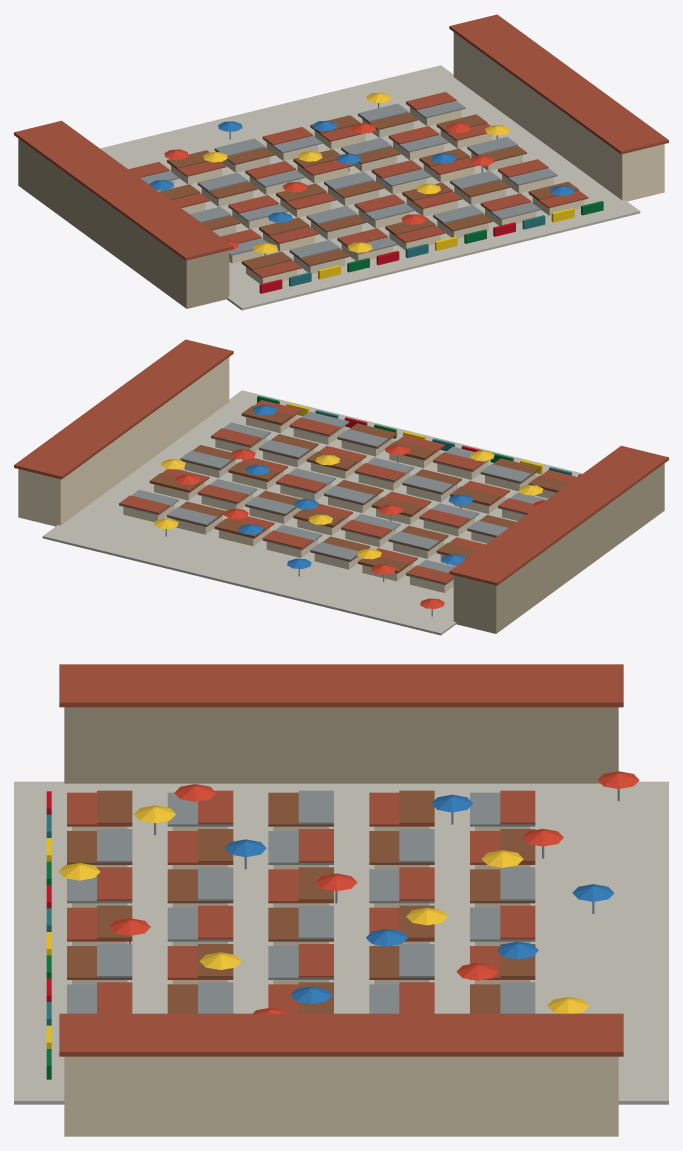
File: kantamanto.glb
The picture shows the model from 3 angles, top to bottom: view 1: azimuth 30°, elevation 25°; view 2: azimuth 150°, elevation 25°; view 3: azimuth 270°, elevation 25°; orthographic projection. The views are drawn at different scales.
Parts seen in each view (by area): view 1: kantamanto_roof_red, kantamanto_concrete, kantamanto_cream, kantamanto_zinc, kantamanto_stone_dark, kantamanto_rust, kantamanto_stone, kantamanto_umbrella_yellow, kantamanto_umbrella_blue, kantamanto_umbrella_red, kantamanto_red, kantamanto_teal (+2 smaller); view 2: kantamanto_roof_red, kantamanto_concrete, kantamanto_cream, kantamanto_zinc, kantamanto_stone_dark, kantamanto_rust, kantamanto_stone, kantamanto_umbrella_red, kantamanto_umbrella_yellow, kantamanto_umbrella_blue; view 3: kantamanto_concrete, kantamanto_roof_red, kantamanto_cream, kantamanto_stone_dark, kantamanto_zinc, kantamanto_rust, kantamanto_umbrella_red, kantamanto_umbrella_blue, kantamanto_umbrella_yellow, kantamanto_stone.
Boxes of the visible parts, box(x1,y1,x2,y2) form: kantamanto_roof_red: box(14, 14, 668, 278); kantamanto_concrete: box(100, 65, 640, 310); kantamanto_cream: box(157, 32, 664, 284); kantamanto_zinc: box(140, 101, 557, 258); kantamanto_stone_dark: box(18, 138, 229, 308); kantamanto_rust: box(159, 112, 578, 270); kantamanto_stone: box(201, 119, 522, 273); kantamanto_umbrella_yellow: box(203, 92, 509, 253); kantamanto_umbrella_blue: box(149, 120, 574, 222); kantamanto_umbrella_red: box(164, 122, 494, 250); kantamanto_red: box(259, 222, 515, 293); kantamanto_teal: box(289, 215, 545, 286); kantamanto_roof_red: box(14, 339, 668, 585); kantamanto_concrete: box(42, 390, 582, 635); kantamanto_cream: box(18, 357, 556, 592); kantamanto_zinc: box(119, 411, 546, 585); kantamanto_stone_dark: box(453, 463, 664, 633); kantamanto_rust: box(149, 405, 569, 572); kantamanto_stone: box(171, 437, 536, 569); kantamanto_umbrella_red: box(175, 445, 545, 608); kantamanto_umbrella_yellow: box(154, 450, 543, 559); kantamanto_umbrella_blue: box(238, 405, 472, 568); kantamanto_concrete: box(14, 781, 668, 1104); kantamanto_roof_red: box(59, 664, 623, 1056); kantamanto_cream: box(64, 826, 618, 1136); kantamanto_stone_dark: box(64, 707, 618, 783); kantamanto_zinc: box(67, 790, 535, 1013); kantamanto_rust: box(67, 790, 535, 1013); kantamanto_umbrella_red: box(109, 771, 639, 1013); kantamanto_umbrella_blue: box(224, 794, 613, 1004); kantamanto_umbrella_yellow: box(58, 805, 588, 1013); kantamanto_stone: box(72, 826, 530, 984).
Bounding box in the file's own units: 182 × 19 × 130.
